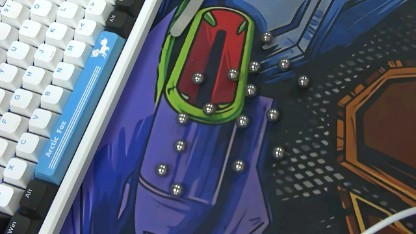ironball: (227, 157, 248, 176), (234, 111, 249, 131), (165, 183, 186, 197), (171, 109, 188, 126), (268, 143, 284, 161), (154, 161, 170, 177), (263, 107, 279, 123), (200, 101, 215, 118), (190, 68, 205, 85), (171, 138, 186, 154), (294, 73, 310, 88), (243, 82, 257, 98), (256, 30, 273, 43), (225, 67, 240, 80), (246, 58, 259, 72), (277, 57, 290, 70)
